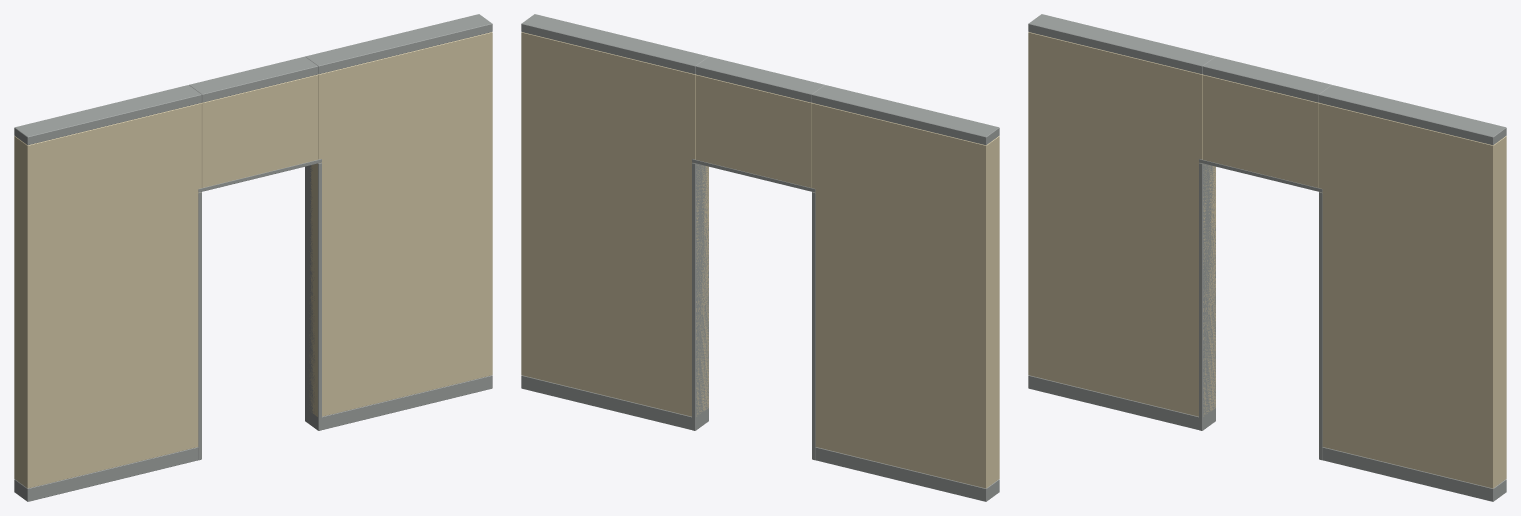
File: b21_wall_door_opening_4m.glb
3 views of the same model, side by side, from view 1: azimuth 30°, elevation 25°; view 2: azimuth 150°, elevation 25°; view 3: azimuth 330°, elevation 25° (orthographic).
Parts seen in each view (by area): view 1: b21_wall_door_opening_4m; view 2: b21_wall_door_opening_4m; view 3: b21_wall_door_opening_4m.
Part boxes in pixels (x1=…): b21_wall_door_opening_4m: x1=14, y1=14, x2=492, y2=501; b21_wall_door_opening_4m: x1=521, y1=14, x2=999, y2=501; b21_wall_door_opening_4m: x1=1028, y1=14, x2=1506, y2=501.
Size of the model in its own units: 4 by 3 by 0.204.
